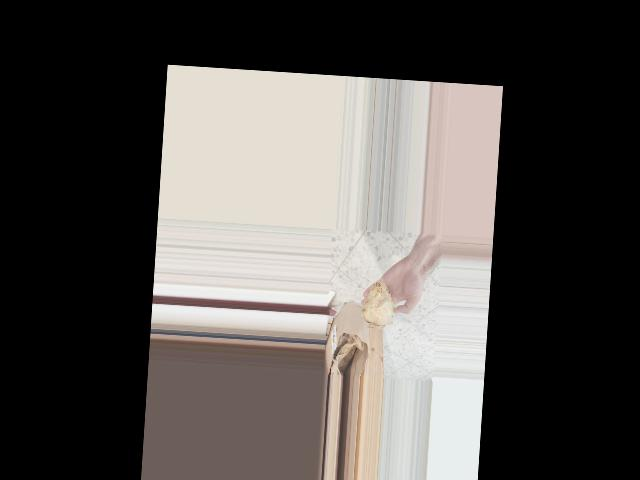onion: (360, 277, 398, 331)
